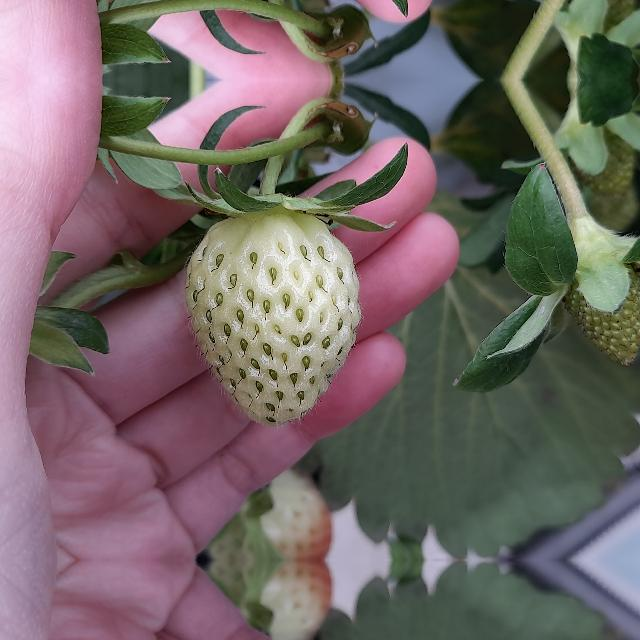Health_25: (184, 212, 360, 426), (564, 244, 640, 368)
